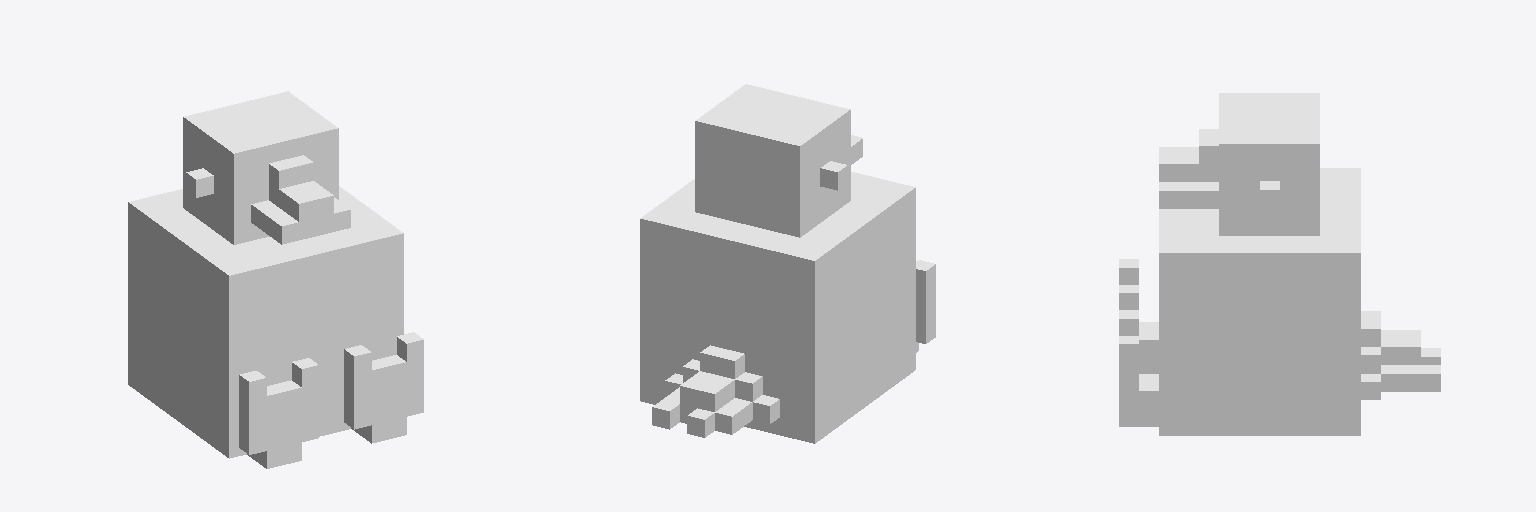
Rendered from Ducklet.obj.
3 views of the same model, side by side, from view 1: azimuth 30°, elevation 25°; view 2: azimuth 150°, elevation 25°; view 3: azimuth 270°, elevation 25° (orthographic).
Parts seen in each view (by area): view 1: object 1; view 2: object 1; view 3: object 1.
Boxes of the visible parts, x1=… form: object 1: x1=128, y1=91, x2=423, y2=468; object 1: x1=640, y1=84, x2=935, y2=443; object 1: x1=1119, y1=93, x2=1440, y2=435.
Bounding box in the file's own units: 1 × 1.5 × 1.6.